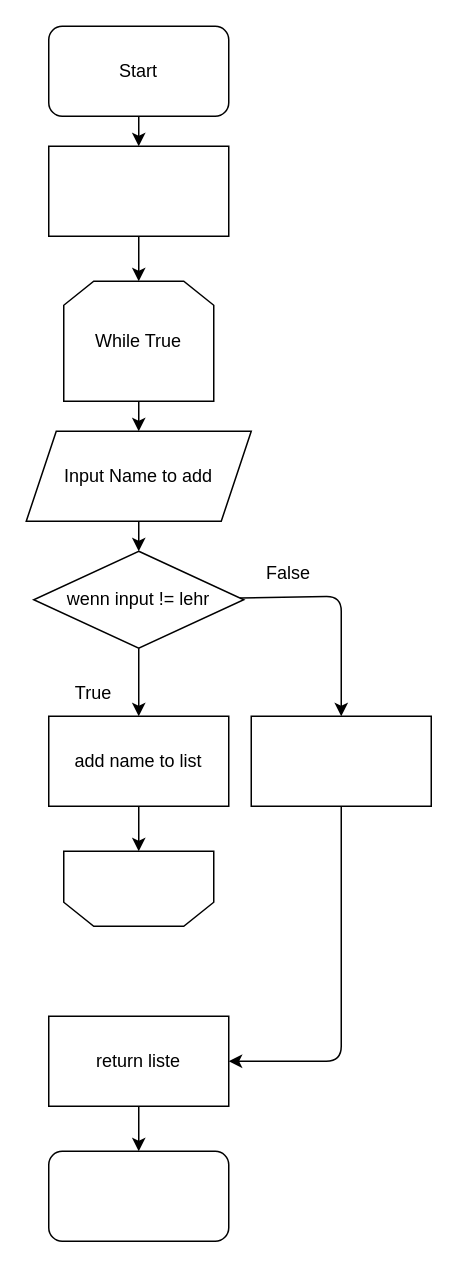
This 458x1268 diagram has some shape labels left out. The shapes that lost their labels are listed below. From the top down, each one's centre as x and y in pixels, then its label:
(138,190): Def list
(340,760): break
(138,1195): stop
